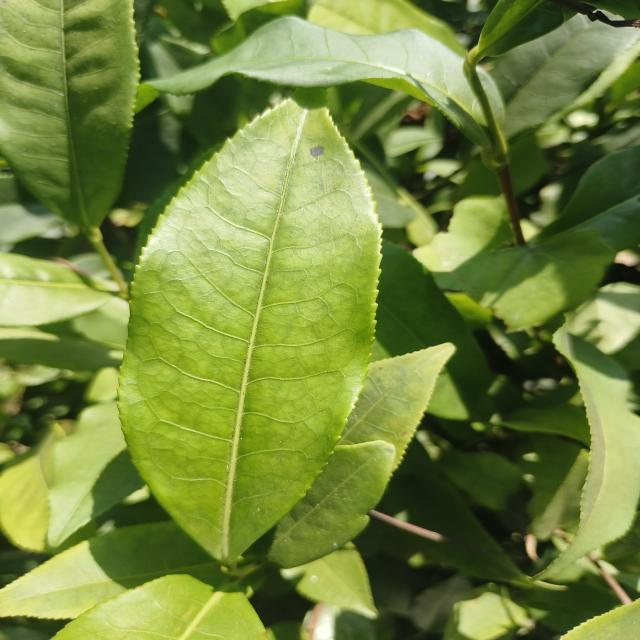Leaf: (119, 100, 380, 563), (149, 16, 488, 144), (0, 0, 139, 226), (536, 328, 640, 579), (0, 520, 227, 619), (376, 241, 493, 421), (490, 15, 640, 138), (268, 440, 394, 568), (54, 574, 266, 640), (48, 402, 142, 547), (539, 145, 640, 251), (307, 0, 463, 55), (0, 252, 113, 327), (0, 427, 57, 552), (521, 433, 588, 539), (281, 549, 377, 619), (471, 0, 565, 62), (161, 78, 238, 148), (438, 449, 521, 510), (501, 403, 590, 445), (409, 574, 471, 632), (144, 38, 198, 77)
